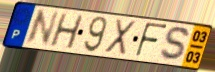9: (82, 16, 109, 54)
F: (133, 22, 169, 60)
H: (48, 13, 85, 51)
N: (23, 9, 61, 46)
S: (158, 25, 192, 63)
X: (102, 18, 138, 58)
